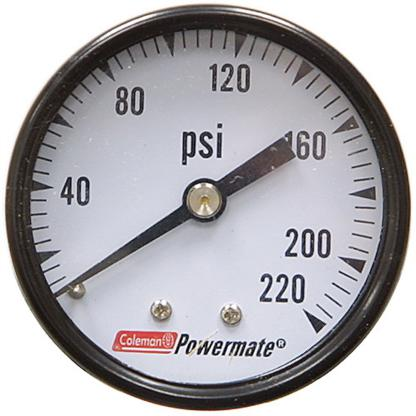needle: (54, 203, 192, 297)
